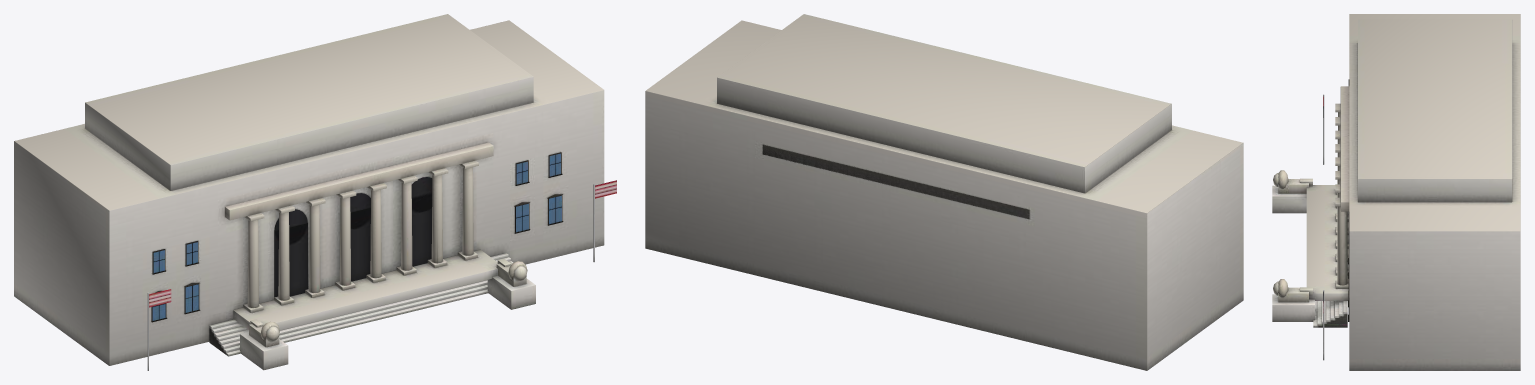
Rendered from biblioteca.glb.
3 views of the same model, side by side, from view 1: azimuth 30°, elevation 25°; view 2: azimuth 150°, elevation 25°; view 3: azimuth 270°, elevation 25° (orthographic). The views are drawn at different scales.
Parts seen in each view (by area): view 1: biblioteca; view 2: biblioteca; view 3: biblioteca.
Boxes of the visible parts, left/top/right/bottom form: biblioteca: left=14, top=14, right=616, bottom=370; biblioteca: left=645, top=14, right=1243, bottom=370; biblioteca: left=1272, top=14, right=1520, bottom=370.
Bounding box in the file's own units: 60 × 21 × 29.
1 material, 1 textured.
